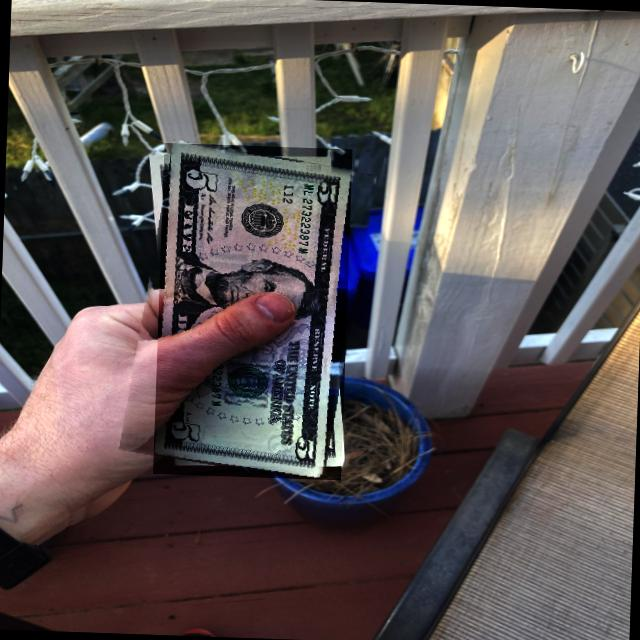five: (143, 144, 353, 480)
